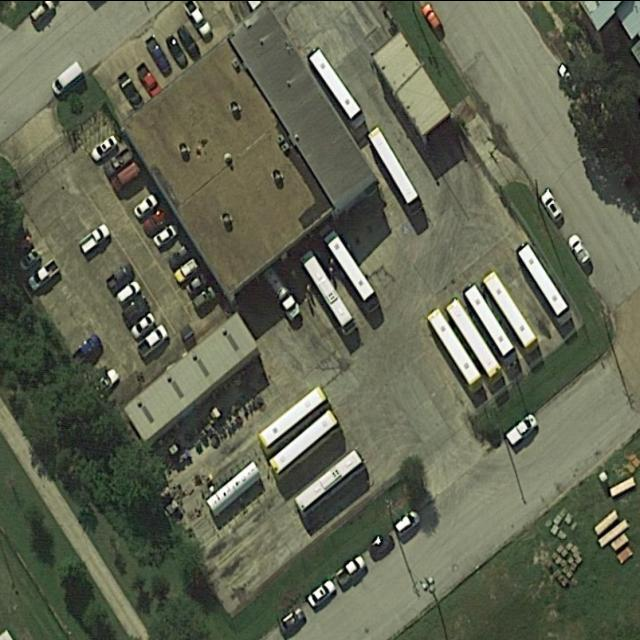large-vehicle: (314, 219, 383, 315), (298, 246, 359, 337), (292, 445, 366, 516), (267, 406, 340, 475), (444, 297, 502, 377), (257, 383, 327, 449), (481, 268, 538, 347), (426, 306, 481, 385), (366, 124, 419, 204), (516, 240, 569, 315), (463, 282, 514, 357), (252, 249, 304, 322), (308, 48, 362, 118)
small-vehicle: (49, 58, 86, 96), (26, 255, 63, 293), (135, 322, 171, 358), (143, 33, 173, 75), (101, 141, 136, 177), (108, 157, 143, 192), (77, 219, 112, 254), (70, 331, 104, 367), (504, 410, 538, 445), (184, 1, 215, 39), (565, 230, 595, 268), (115, 70, 144, 109), (140, 203, 173, 237), (132, 60, 163, 96), (175, 22, 203, 61), (334, 553, 367, 586), (304, 578, 338, 610), (104, 261, 136, 295), (88, 130, 120, 163), (120, 292, 151, 326), (556, 59, 583, 96), (538, 186, 566, 221), (391, 507, 422, 538), (171, 254, 202, 285), (163, 33, 190, 68), (128, 309, 158, 340), (277, 604, 306, 634), (93, 364, 122, 394), (114, 276, 142, 307), (165, 240, 194, 269), (190, 282, 218, 311), (132, 191, 161, 219), (183, 269, 210, 297), (367, 532, 395, 559), (152, 220, 180, 247), (16, 244, 43, 272), (420, 1, 442, 30)
